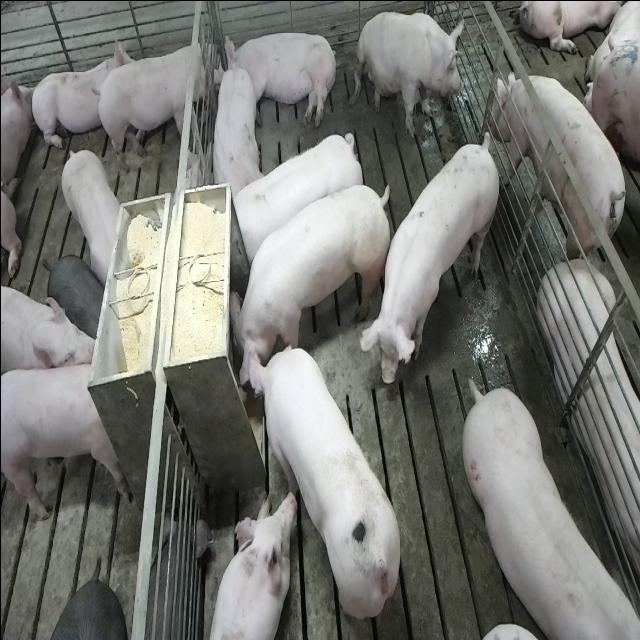Feeding: (243, 339, 402, 622), (222, 178, 388, 392)
Lateral_lying: (222, 28, 338, 128)
Sitting: (354, 8, 464, 138)
Standing: (464, 381, 640, 639), (363, 130, 503, 390), (494, 68, 631, 270), (2, 363, 132, 519), (228, 126, 362, 264), (94, 26, 216, 172), (0, 282, 99, 373), (58, 146, 124, 282), (44, 254, 106, 338)
Sternal_lying: (539, 260, 640, 599), (205, 490, 294, 640), (28, 32, 126, 156), (207, 49, 260, 200)
